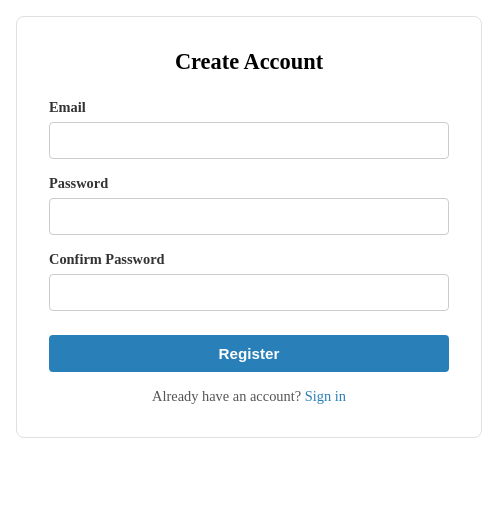
Test: RegisterPage › shows error for duplicate email (409)
Type "existing@example.com" into the field labelled "Email" at (249, 140), box [49,122,449,159]
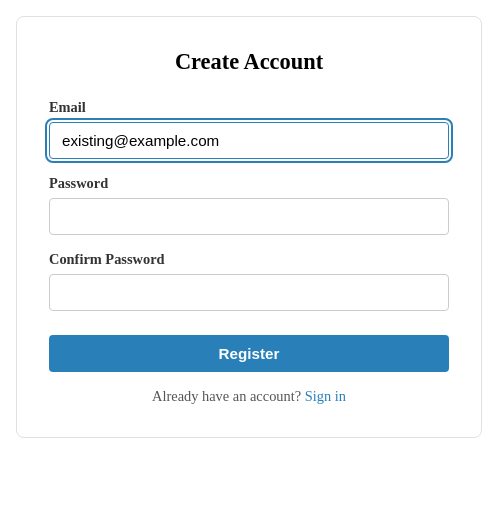
Type "password123" into the password field labelled "Password" at (249, 216), box [49,198,449,235]
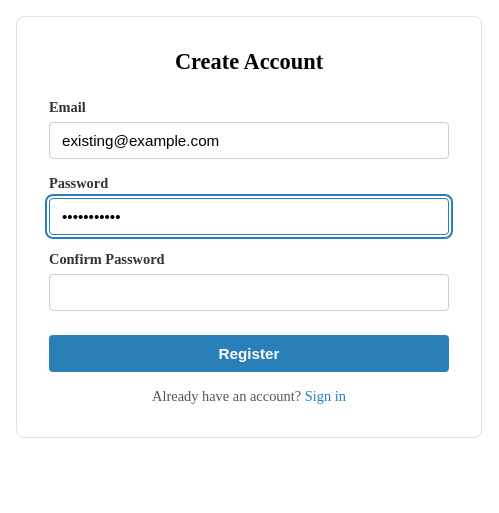
Type "password123" into the password field labelled "Confirm Password" at (249, 292), box [49,274,449,311]
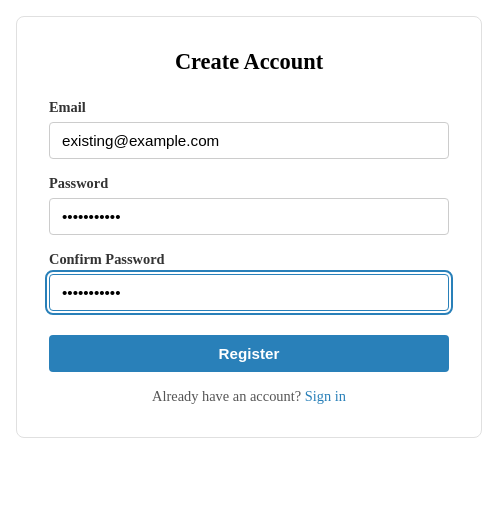
Click the button "Register" at (249, 354), box [49,335,449,372]
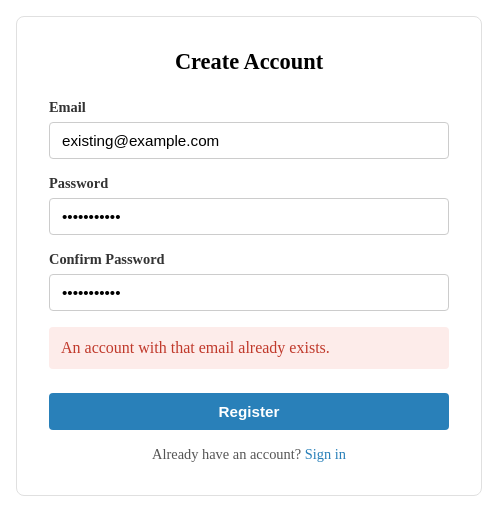
Check: the message "An account with that email already exists." is shown, box [49,327,449,369]
